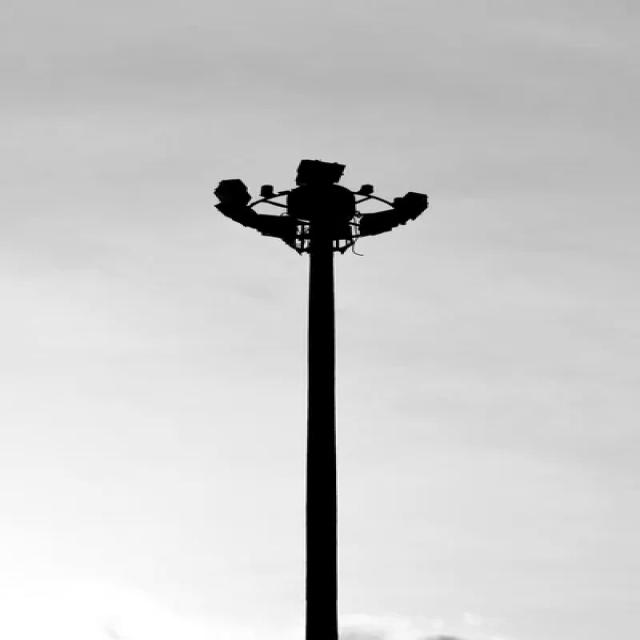Pole: (214, 160, 429, 639)
